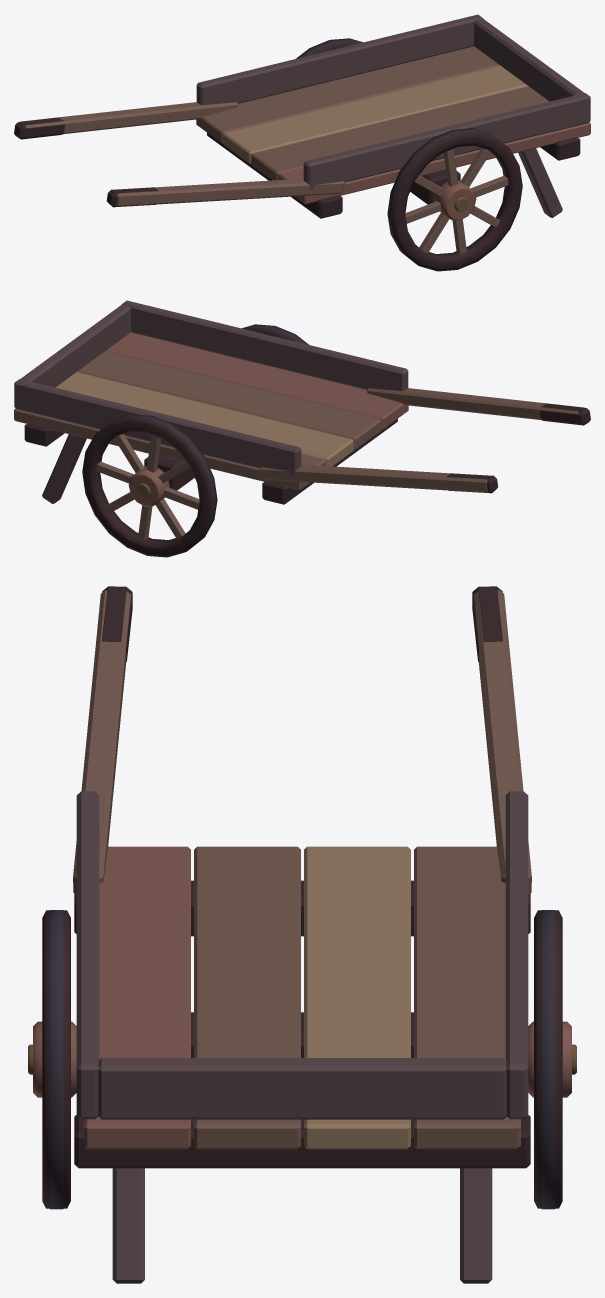
File: hand_cart.glb
The picture shows the model from 3 angles, top to bottom: view 1: azimuth 30°, elevation 25°; view 2: azimuth 150°, elevation 25°; view 3: azimuth 270°, elevation 25°; orthographic projection. The views are drawn at different scales.
Visible parts, largest first — view 1: hand_cart; view 2: hand_cart; view 3: hand_cart.
Boxes of the visible parts, x1=… form: hand_cart: x1=14, y1=14, x2=590, y2=271; hand_cart: x1=14, y1=300, x2=590, y2=557; hand_cart: x1=28, y1=586, x2=576, y2=1283.
Size of the model in its own units: 1.98 by 0.5805 by 0.994.
